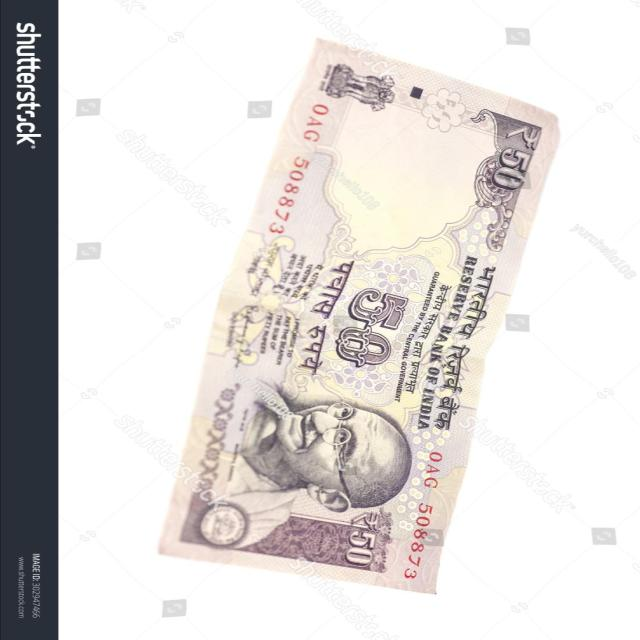50IndianRupees: (149, 36, 561, 598)
